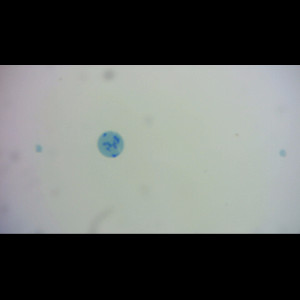aggregate reticulocyte: (96, 130, 125, 159)
